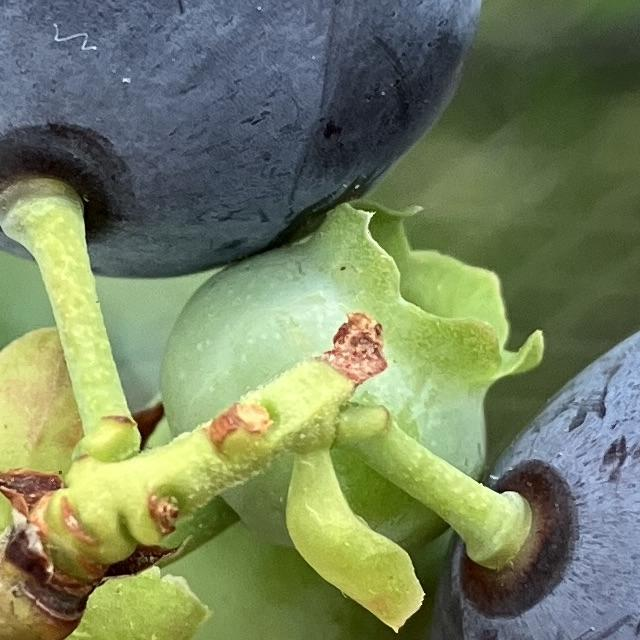Blueberries: (0, 0, 484, 280)
